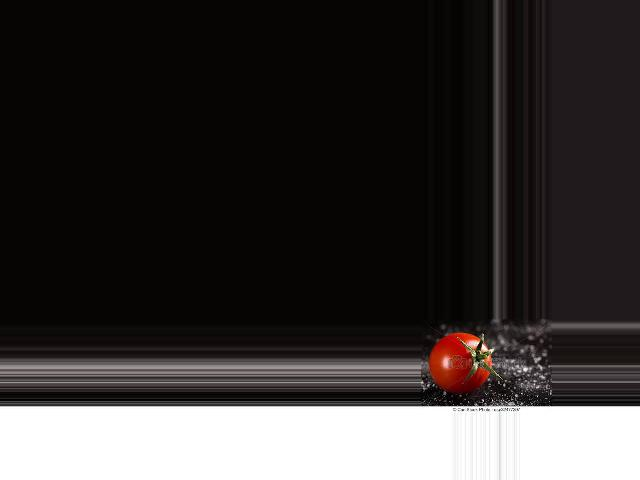tomato: (429, 332, 492, 393)
